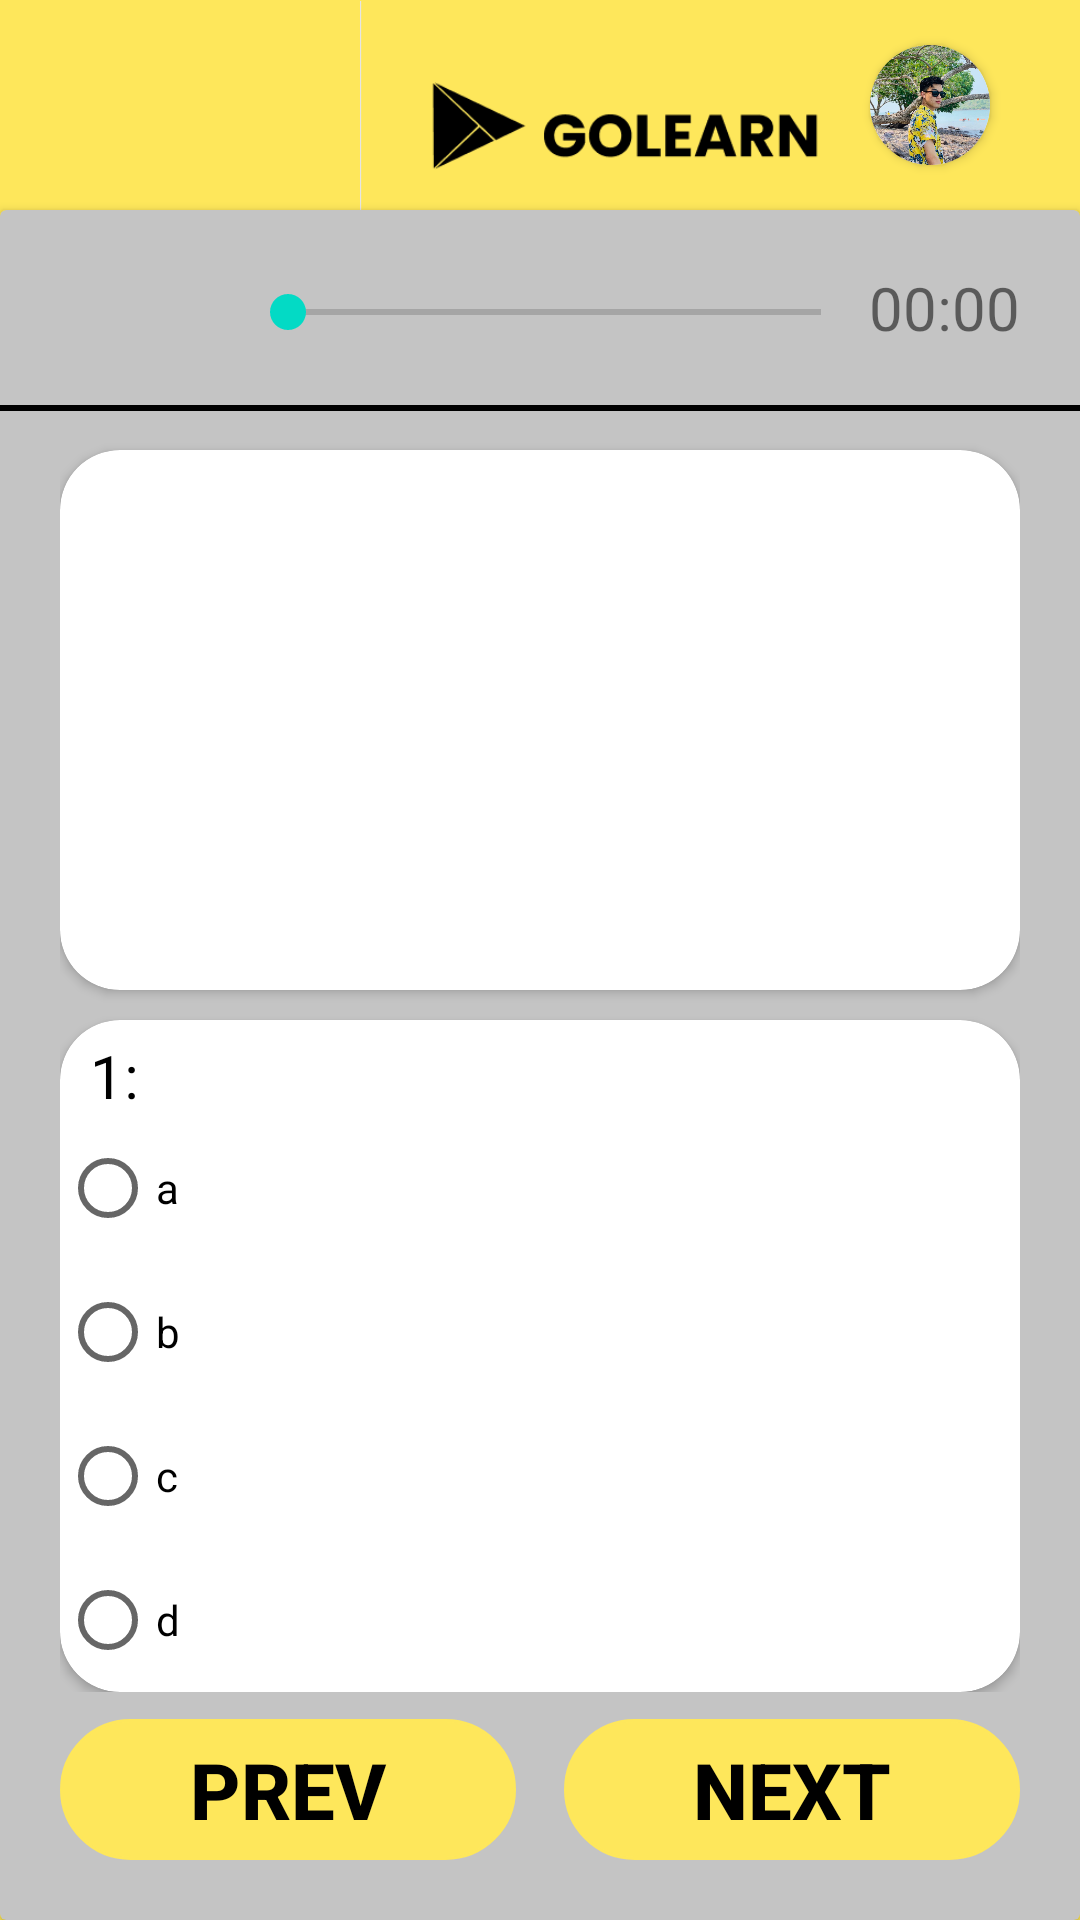

Where to tap for icons on this 1080 × 1920 app screen, as (x,y):
avt: (930,105)
